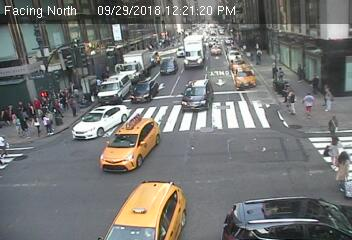car: (221, 196, 352, 240), (102, 179, 188, 240), (97, 117, 163, 173), (73, 105, 133, 140), (182, 80, 215, 112), (97, 75, 132, 102), (117, 52, 151, 79), (184, 36, 205, 69), (232, 64, 256, 90), (133, 81, 159, 104), (226, 50, 244, 67), (161, 59, 178, 76), (210, 44, 223, 56), (224, 37, 234, 45)
